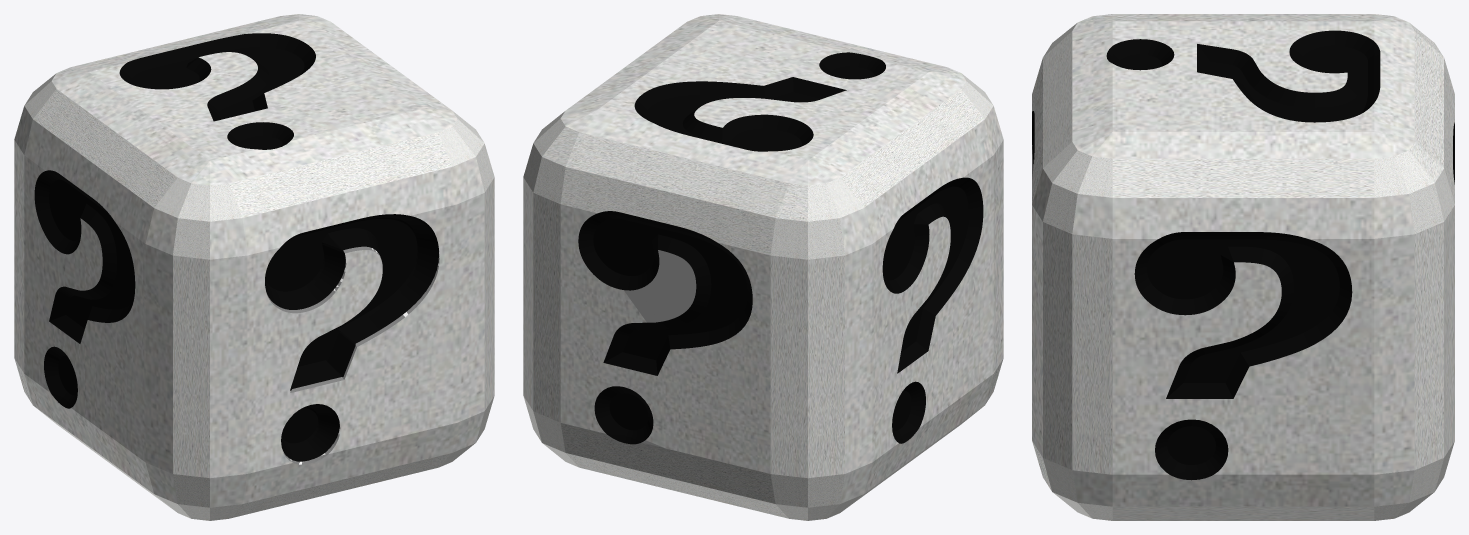
The model's file is itembox.fbx.
The picture shows the model from 3 angles, left to right: view 1: azimuth 30°, elevation 25°; view 2: azimuth 150°, elevation 25°; view 3: azimuth 270°, elevation 25°; orthographic projection. The views are drawn at different scales.
Visible parts, largest first — view 1: node_id9 (×3); view 2: node_id9 (×3); view 3: node_id9 (×2).
Part boxes in pixels (x1,y1,x2,y2): node_id9 (×3): [14, 14, 494, 520]; node_id9 (×3): [523, 14, 1003, 520]; node_id9 (×2): [1032, 14, 1454, 520].
Size of the model in its own units: 0.512 by 0.5101 by 0.512.
4 materials, 1 textured.
